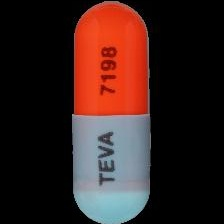0093-7198: (0, 0, 224, 224)
